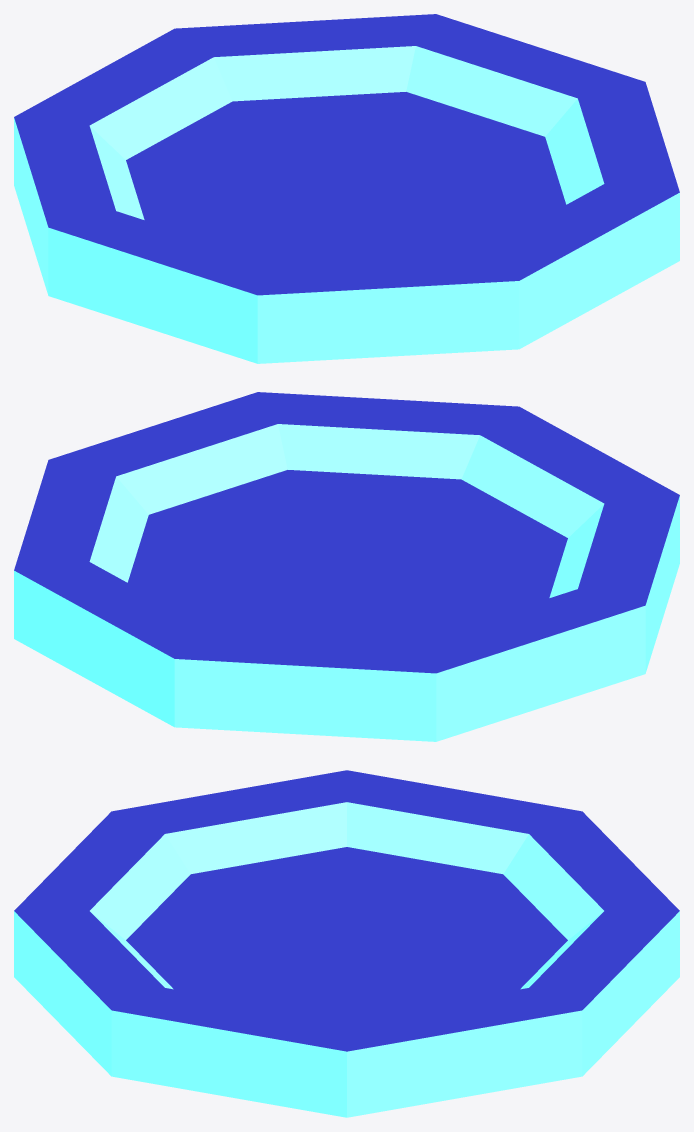
Rendered from chip.glb.
3 renders of one model, top to bottom at view 1: azimuth 30°, elevation 25°; view 2: azimuth 150°, elevation 25°; view 3: azimuth 270°, elevation 25°, orthographic. The views are drawn at different scales.
Parts seen in each view (by area): view 1: Circle; view 2: Circle; view 3: Circle.
Boxes of the visible parts, box(x1,y1,x2,y2) form: Circle: box(14, 14, 679, 363); Circle: box(14, 392, 679, 741); Circle: box(14, 770, 679, 1117).
Bounding box in the file's own units: 0.1 × 0.011 × 0.1.
